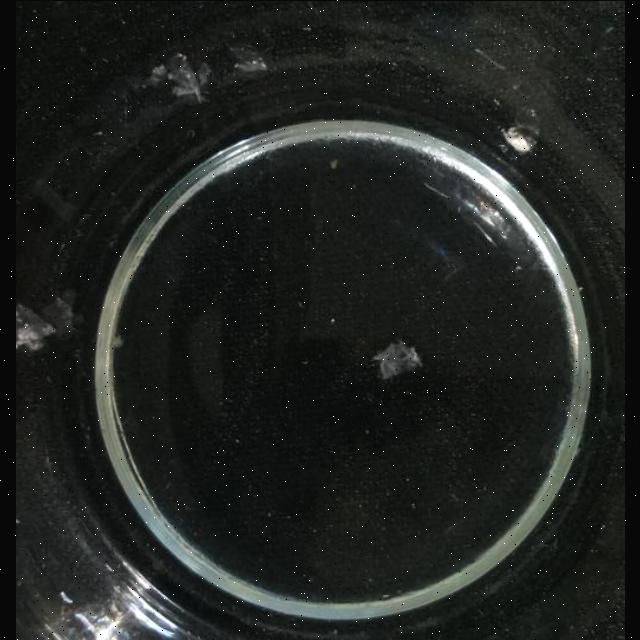Fibre: (15, 300, 60, 352), (161, 52, 207, 102), (372, 338, 421, 380), (58, 590, 72, 604)
microbeads: (514, 265, 522, 273), (300, 359, 308, 365)
